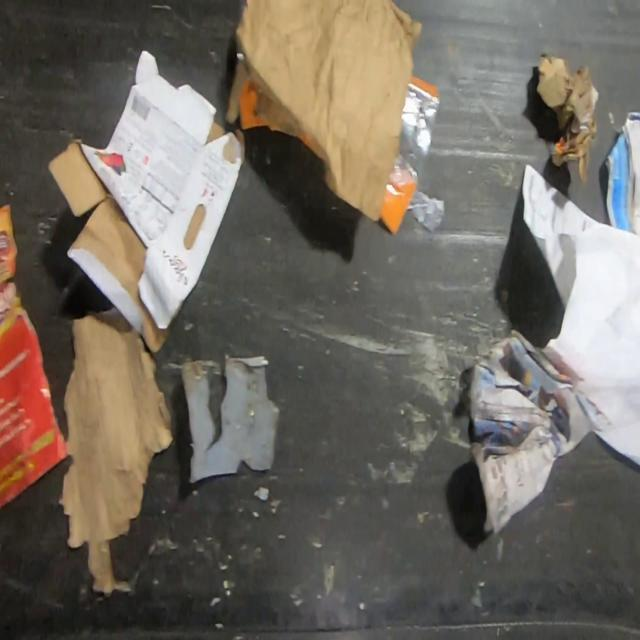cardboard: (44, 44, 247, 355), (57, 307, 177, 597), (536, 49, 602, 184)
soft_plastic: (379, 72, 449, 239), (238, 77, 279, 131)
